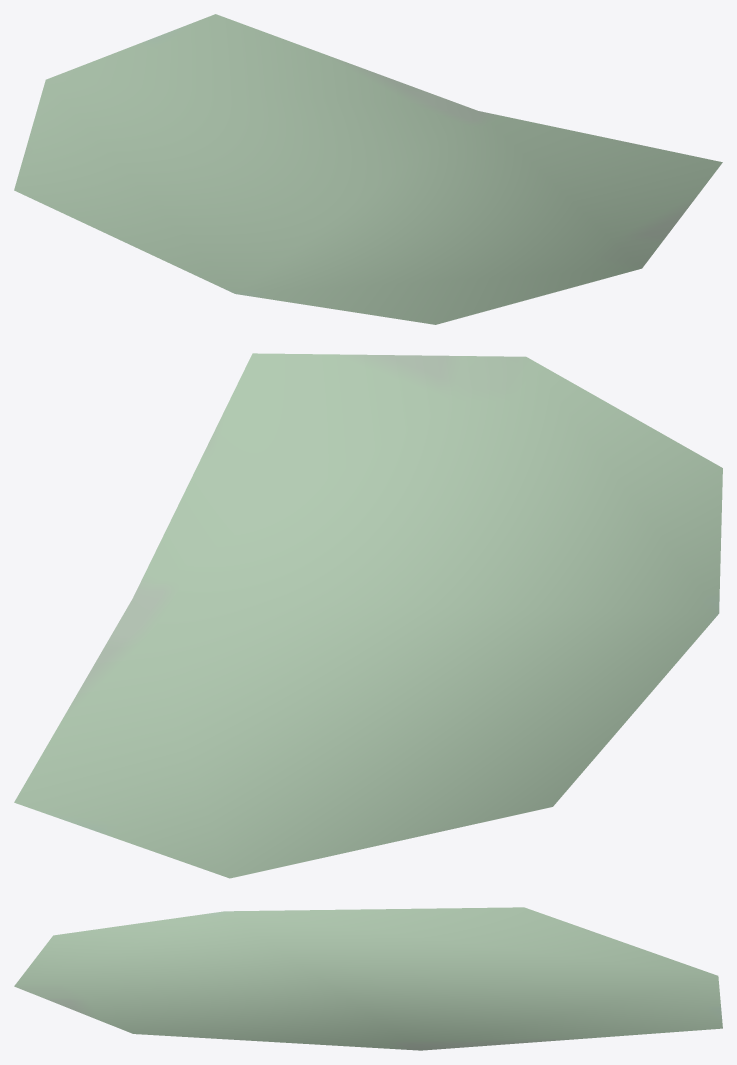
File: TROLLHOLE02_HOLECAP86.fbx
3 renders of one model, top to bottom at view 1: azimuth 30°, elevation 25°; view 2: azimuth 150°, elevation 25°; view 3: azimuth 270°, elevation 25°, orthographic. The views are drawn at different scales.
Parts seen in each view (by area): view 1: TROLLHOLE02_HOLECAP86; view 2: TROLLHOLE02_HOLECAP86; view 3: TROLLHOLE02_HOLECAP86.
Boxes of the visible parts, x1,y1,x2,y2 form: TROLLHOLE02_HOLECAP86: [14, 14, 722, 324]; TROLLHOLE02_HOLECAP86: [14, 353, 722, 878]; TROLLHOLE02_HOLECAP86: [14, 907, 722, 1050].
Bounding box in the file's own units: 10090 × 1855 × 15452.
1 material, 1 textured.
